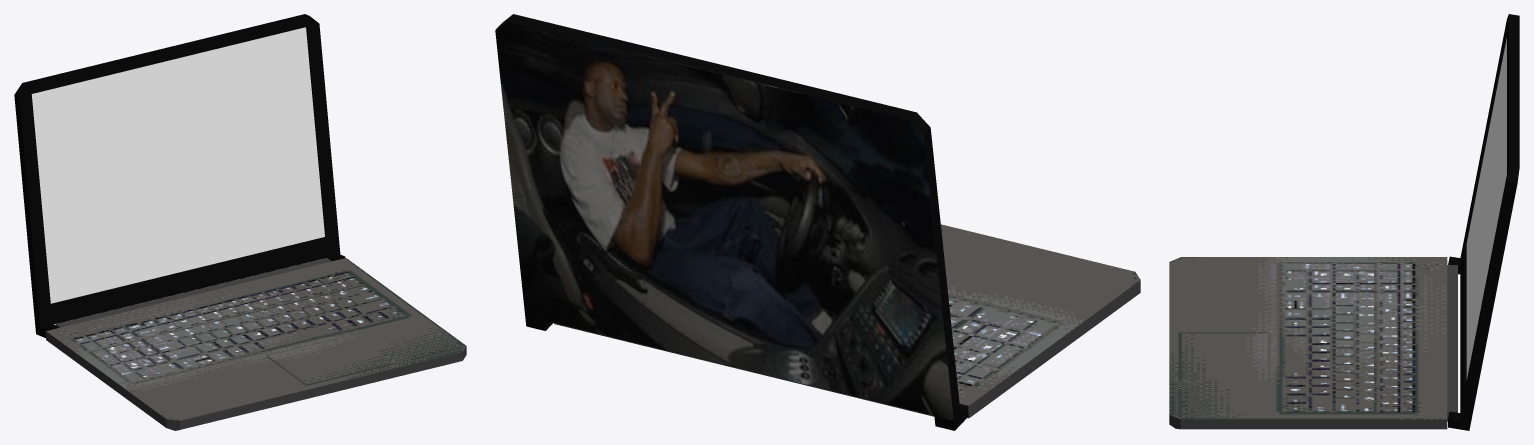
Rendered from mymodel.glb.
The picture shows the model from 3 angles, left to right: view 1: azimuth 30°, elevation 25°; view 2: azimuth 150°, elevation 25°; view 3: azimuth 270°, elevation 25°; orthographic projection. The views are drawn at different scales.
Parts seen in each view (by area): view 1: ScreenFace, Cube, Cube.001; view 2: Cube.001, Cube; view 3: Cube, Cube.001, ScreenFace.
Boxes of the visible parts, left/top/right/bottom form: ScreenFace: left=31, top=27, right=324, bottom=303; Cube: left=46, top=258, right=466, bottom=430; Cube.001: left=14, top=14, right=345, bottom=337; Cube.001: left=495, top=14, right=968, bottom=430; Cube: left=554, top=224, right=1140, bottom=418; Cube: left=1169, top=257, right=1457, bottom=429; Cube.001: left=1448, top=14, right=1519, bottom=430; ScreenFace: left=1466, top=38, right=1506, bottom=379.
Bounding box in the file's own units: 35.4 × 26.8 × 32.26.
Materials: 5 (2 with a texture image).
